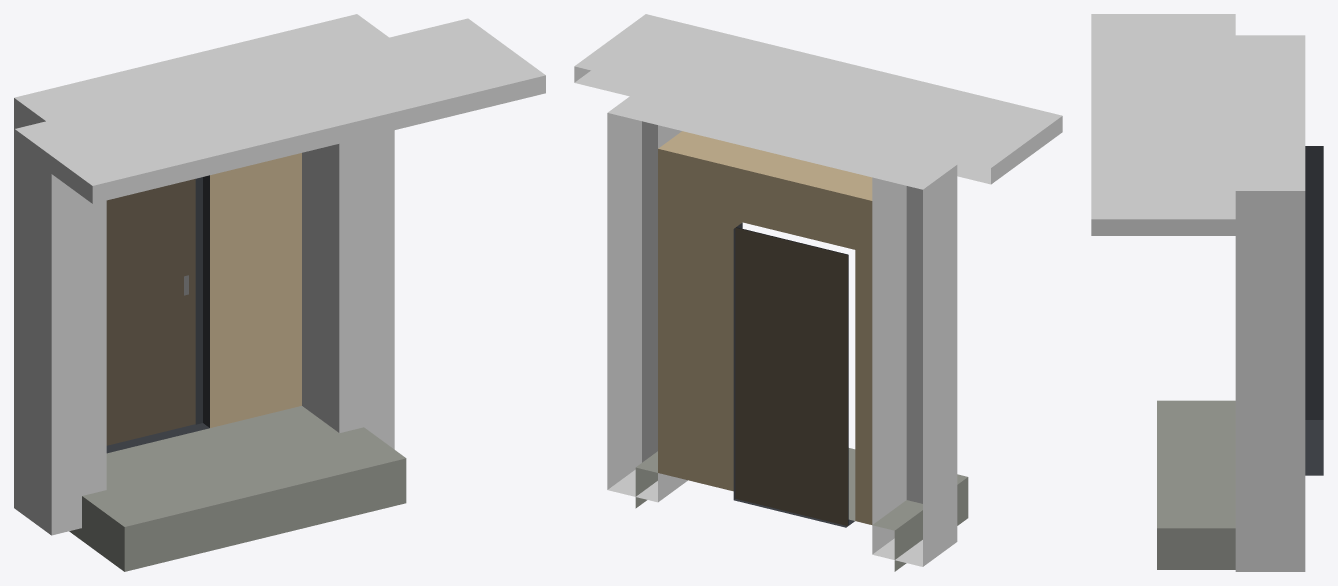
File: entrance.fbx
3 renders of one model, left to right at view 1: azimuth 30°, elevation 25°; view 2: azimuth 150°, elevation 25°; view 3: azimuth 270°, elevation 25°, orthographic. The views are drawn at different scales.
Parts seen in each view (by area): view 1: a2000/800/entrance; view 2: a2000/800/entrance; view 3: a2000/800/entrance.
Boxes of the visible parts, x1=… form: a2000/800/entrance: x1=14, y1=14, x2=545, y2=571; a2000/800/entrance: x1=574, y1=14, x2=1062, y2=571; a2000/800/entrance: x1=1091, y1=14, x2=1323, y2=571.
Bounding box in the file's own units: 3.7 × 3.34 × 1.77.
